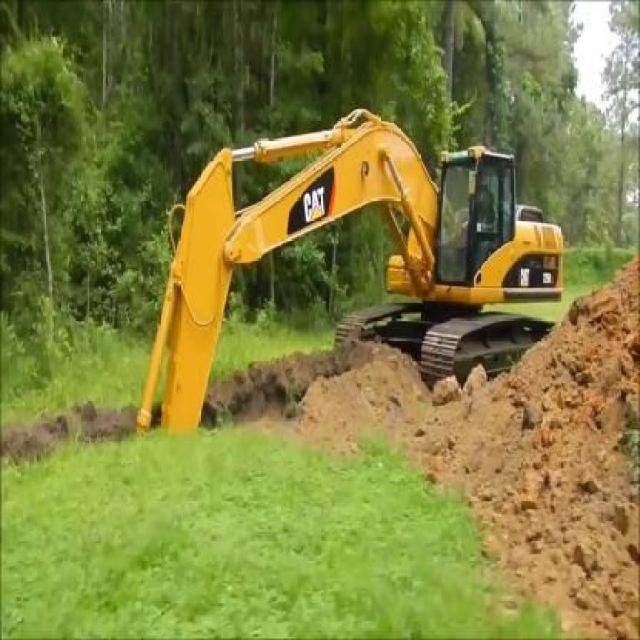excavator: (135, 107, 563, 438)
